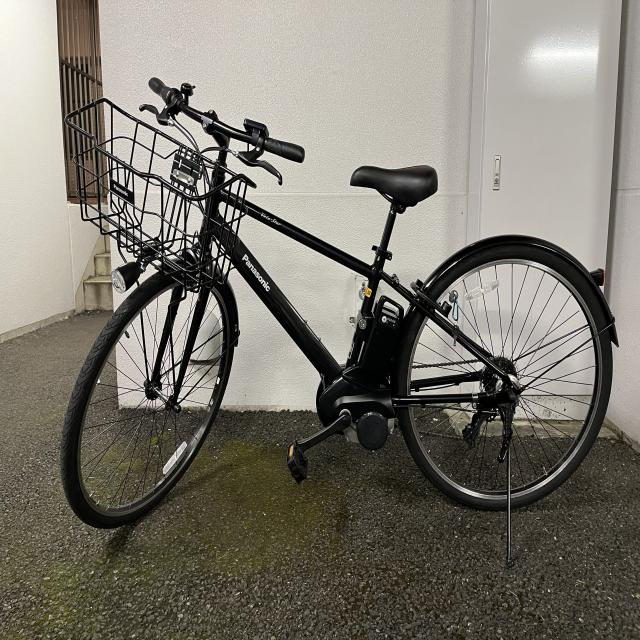basket: (391, 349, 576, 544)
battery: (233, 246, 286, 344)
